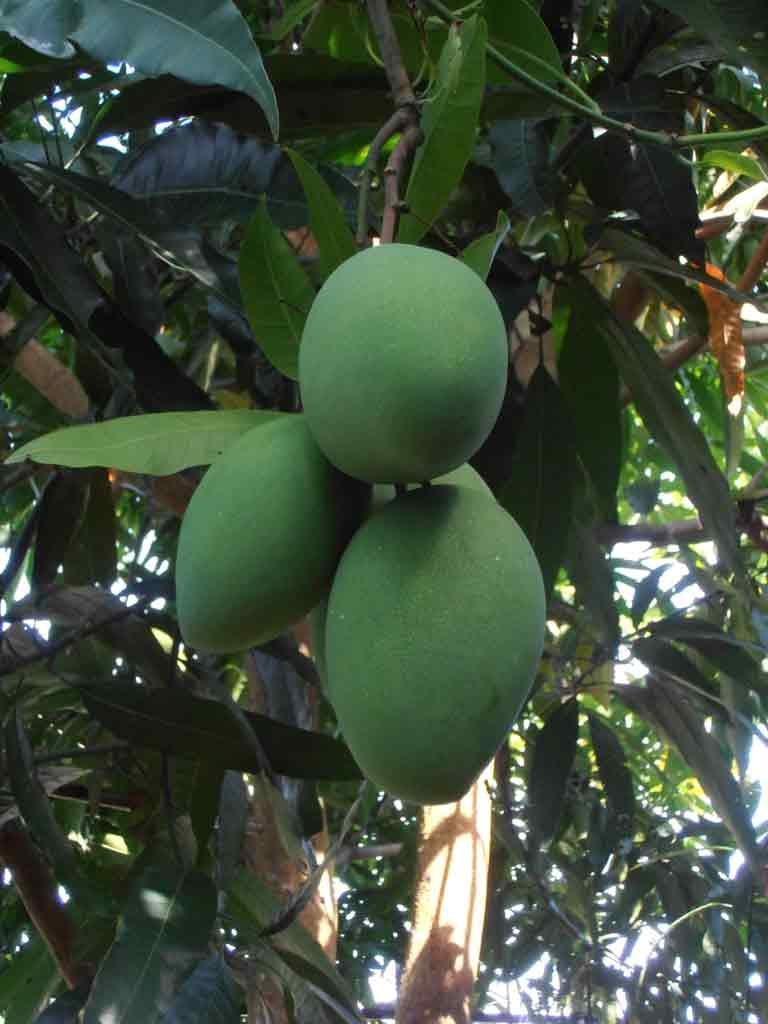mango: (320, 486, 566, 809), (286, 232, 509, 509), (174, 404, 337, 659)
